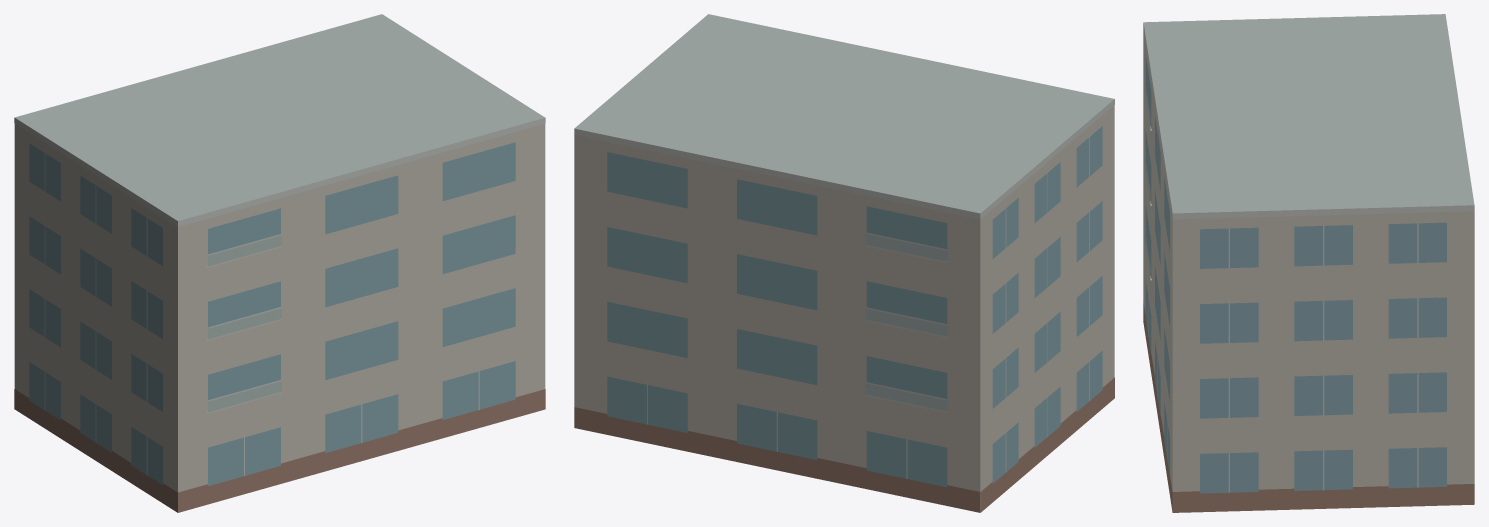
File: residential-d65c8b53-b9db-48bd-a53f-d95670d31a9d.glb
3 views of the same model, side by side, from view 1: azimuth 30°, elevation 25°; view 2: azimuth 150°, elevation 25°; view 3: azimuth 270°, elevation 25° (orthographic). The views are drawn at different scales.
Parts seen in each view (by area): view 1: residential-d65c8b53-b9db-48bd-a53f-d95670d31a9d.tmp; view 2: residential-d65c8b53-b9db-48bd-a53f-d95670d31a9d.tmp; view 3: residential-d65c8b53-b9db-48bd-a53f-d95670d31a9d.tmp.
Part boxes in pixels (box(x1,y1,x2,y2)): residential-d65c8b53-b9db-48bd-a53f-d95670d31a9d.tmp: box(14, 14, 545, 512); residential-d65c8b53-b9db-48bd-a53f-d95670d31a9d.tmp: box(574, 14, 1114, 512); residential-d65c8b53-b9db-48bd-a53f-d95670d31a9d.tmp: box(1143, 14, 1474, 512).
Bounding box in the file's own units: 17.43 × 12.2 × 12.23.
